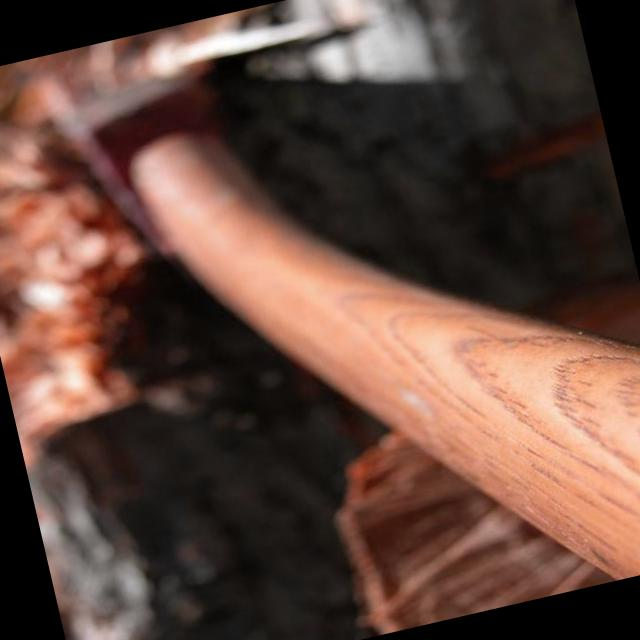Axe: (70, 78, 640, 578)
